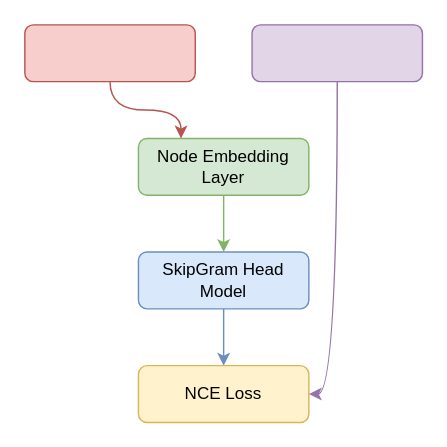
This 447x447 diagram has some shape labels left out. The centre of each missing label's shape, as x and y in pixels:
Central node: point 336,52
Contextual nodes: point 109,52
